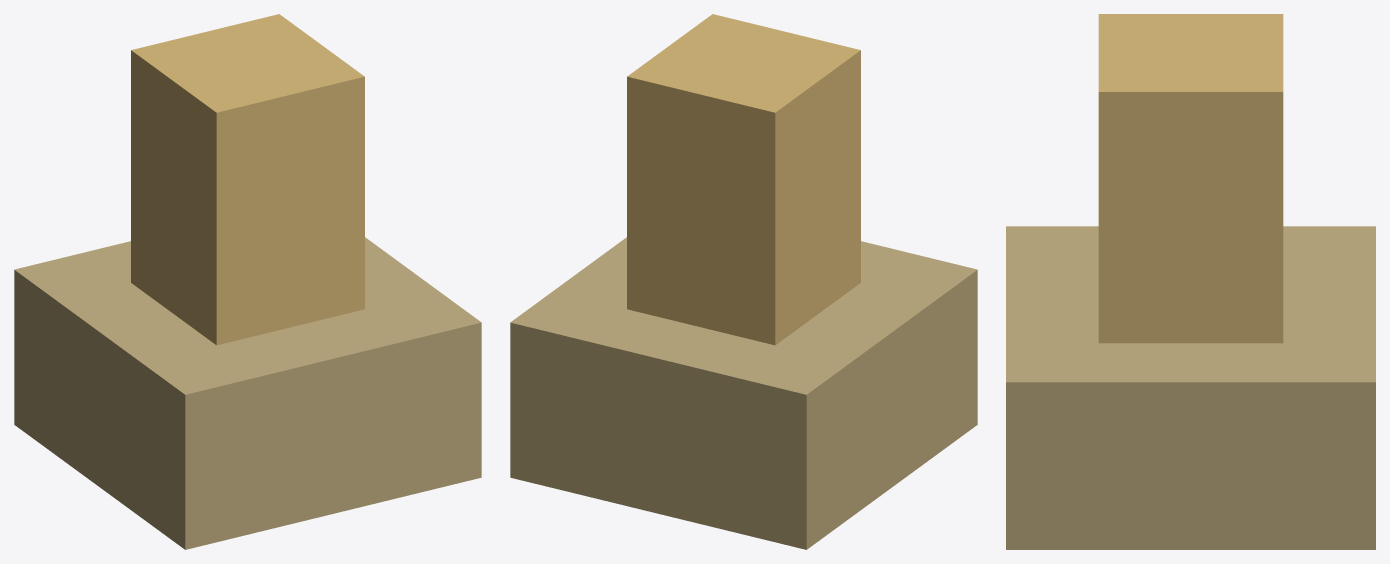
The model's file is lampara_aceite_01.glb.
The picture shows the model from 3 angles, left to right: view 1: azimuth 30°, elevation 25°; view 2: azimuth 150°, elevation 25°; view 3: azimuth 270°, elevation 25°; orthographic projection. The views are drawn at different scales.
Visible parts, largest first — view 1: lampara_aceite; view 2: lampara_aceite; view 3: lampara_aceite.
Part boxes in pixels (x1=…): lampara_aceite: x1=14, y1=14, x2=481, y2=549; lampara_aceite: x1=510, y1=14, x2=977, y2=549; lampara_aceite: x1=1006, y1=14, x2=1375, y2=549.
Size of the model in its own units: 0.3333 by 0.4167 by 0.3333.
